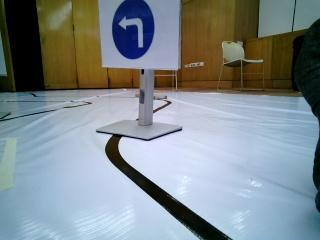left: (96, 1, 176, 63)
